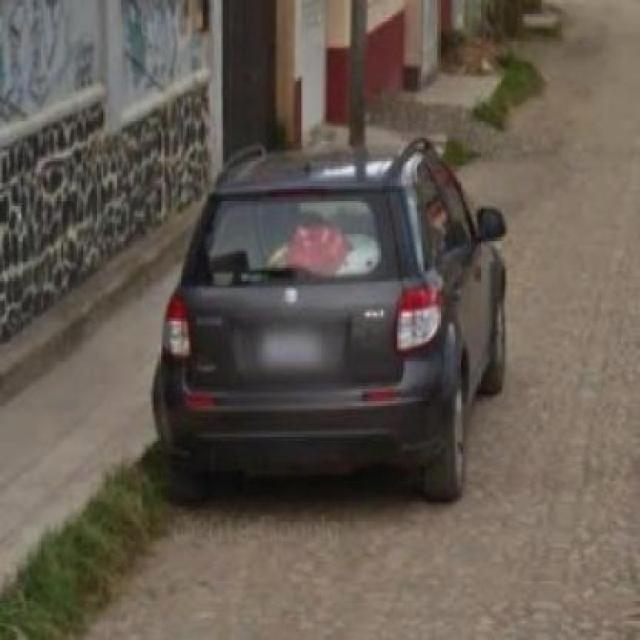car: (145, 133, 518, 516)
